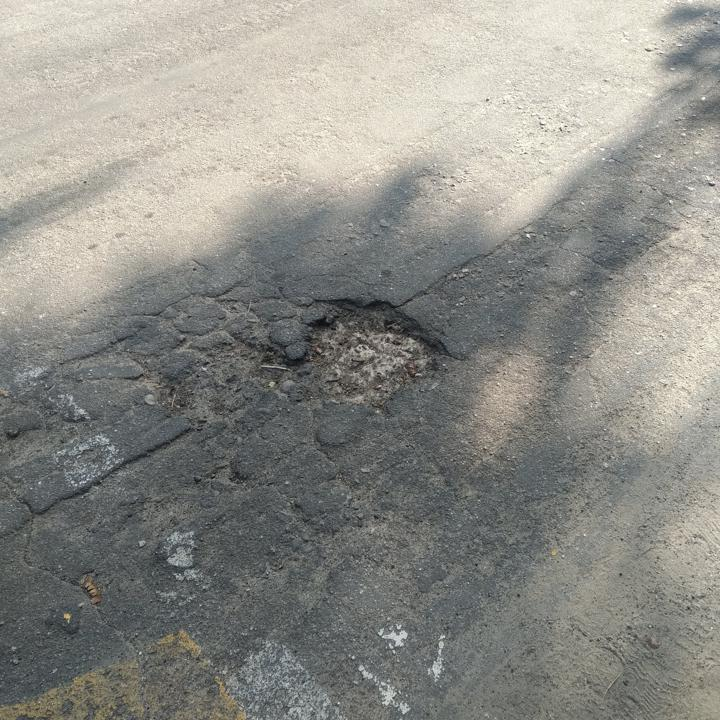pothole: (297, 292, 462, 409), (158, 337, 293, 422)
